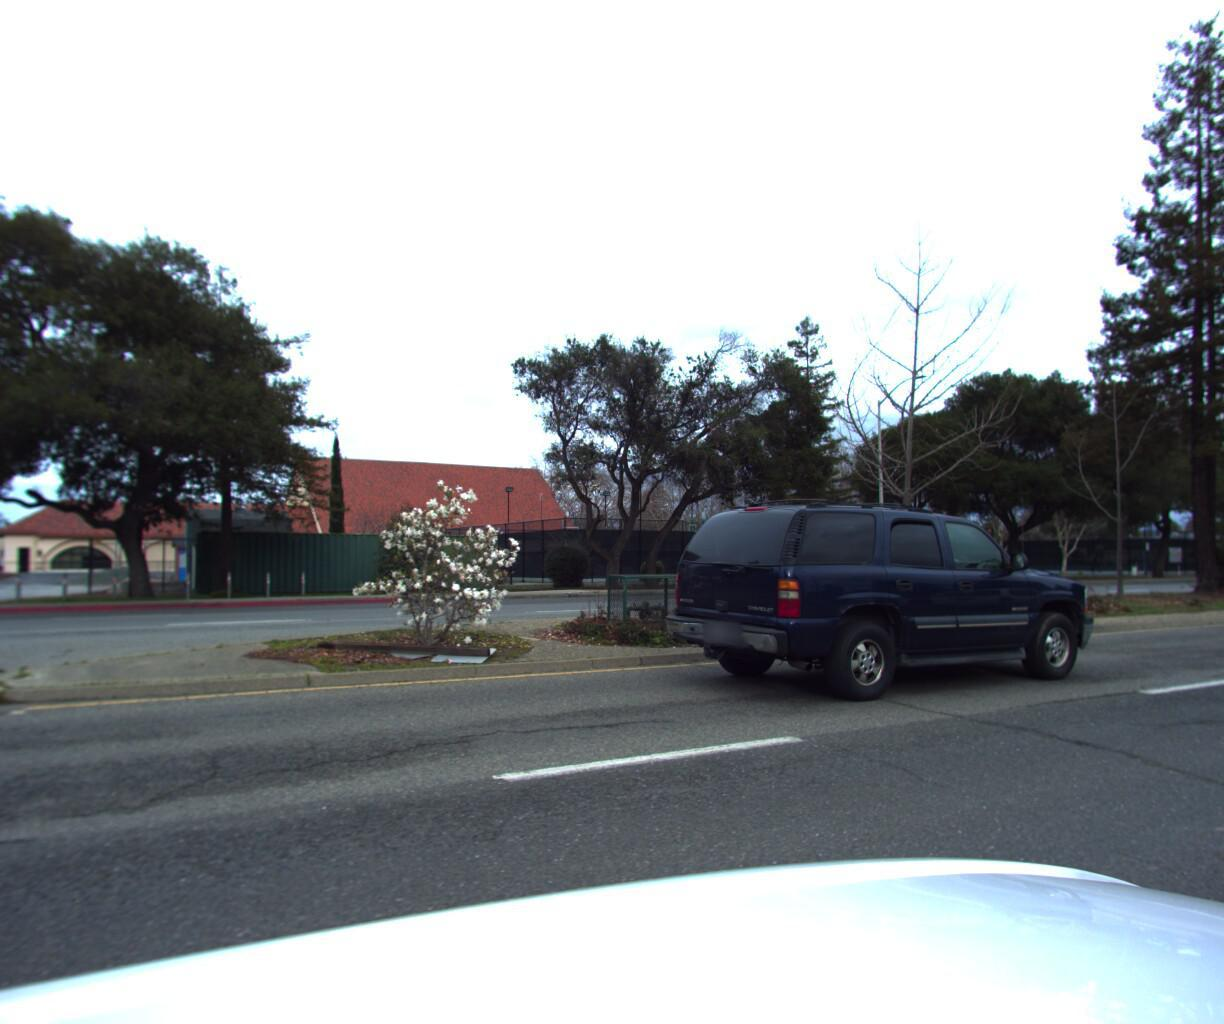car: (658, 485, 1116, 726)
